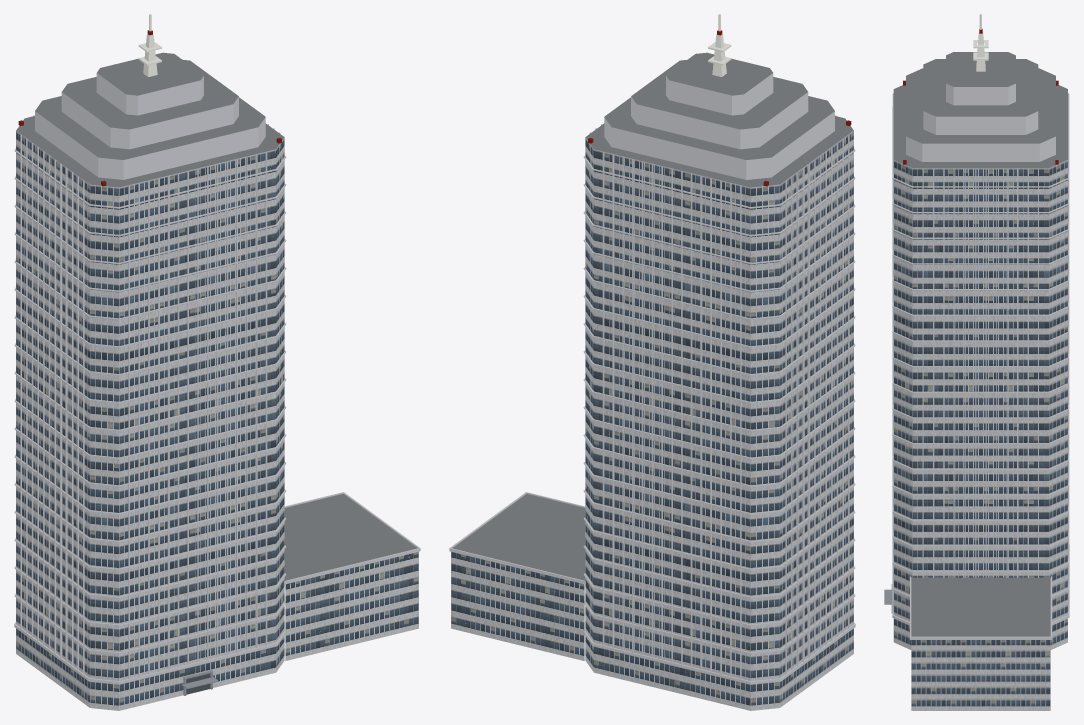
The model's file is sanno_park_tower.glb.
3 renders of one model, left to right at view 1: azimuth 30°, elevation 25°; view 2: azimuth 150°, elevation 25°; view 3: azimuth 270°, elevation 25°, orthographic. The views are drawn at different scales.
Visible parts, largest first — view 1: sanno_park_tower; view 2: sanno_park_tower; view 3: sanno_park_tower.
Part boxes in pixels (x1,y1,x2,y2): sanno_park_tower: (14, 14, 420, 710); sanno_park_tower: (449, 14, 855, 710); sanno_park_tower: (884, 14, 1069, 710).
Size of the model in its own units: 104 by 194 by 55.
Materials: 2 (2 with a texture image).
